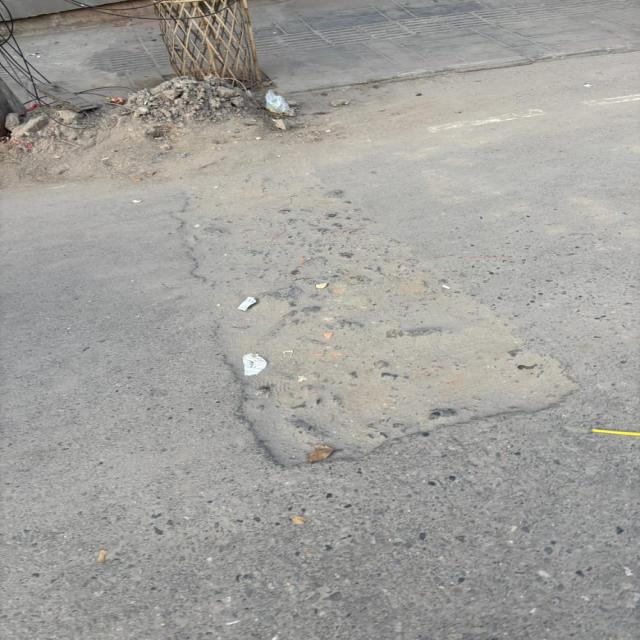Surface Erosion: (60, 115, 566, 491)
